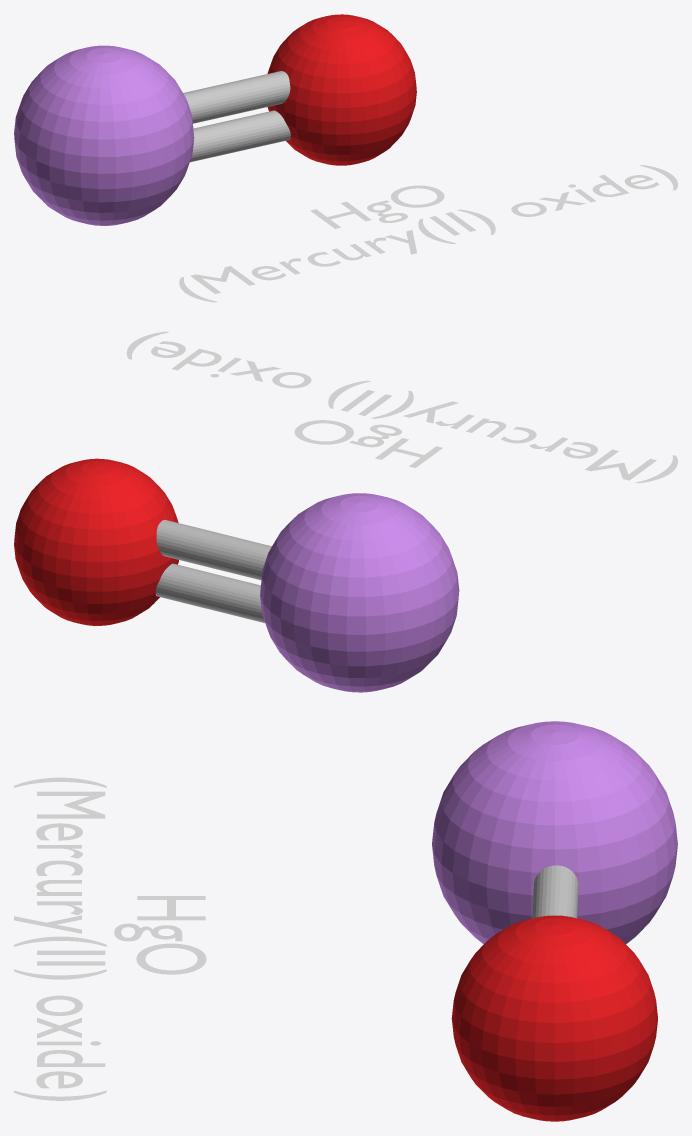
Rendered from Mercury(II) oxide.fbx.
3 renders of one model, top to bottom at view 1: azimuth 30°, elevation 25°; view 2: azimuth 150°, elevation 25°; view 3: azimuth 270°, elevation 25°, orthographic. The views are drawn at different scales.
Parts seen in each view (by area): view 1: Sphere, Sphere.002, Text, Cylinder, Cylinder.001; view 2: Sphere, Sphere.002, Text, Cylinder, Cylinder.001; view 3: Sphere, Sphere.002, Text, Cylinder.
Part boxes in pixels (<box>): Sphere: <box>14,45,194,225</box>; Sphere.002: <box>267,14,416,165</box>; Text: <box>179,165,677,302</box>; Cylinder: <box>183,71,290,123</box>; Cylinder.001: <box>190,110,290,162</box>; Sphere: <box>260,493,459,692</box>; Sphere.002: <box>14,458,178,625</box>; Text: <box>126,331,677,483</box>; Cylinder: <box>156,520,271,580</box>; Cylinder.001: <box>155,563,264,622</box>; Sphere: <box>432,721,677,943</box>; Sphere.002: <box>451,915,657,1121</box>; Text: <box>14,777,206,1100</box>; Cylinder: <box>532,865,578,918</box>.
Bounding box in the file's own units: 763 × 245 × 662.
